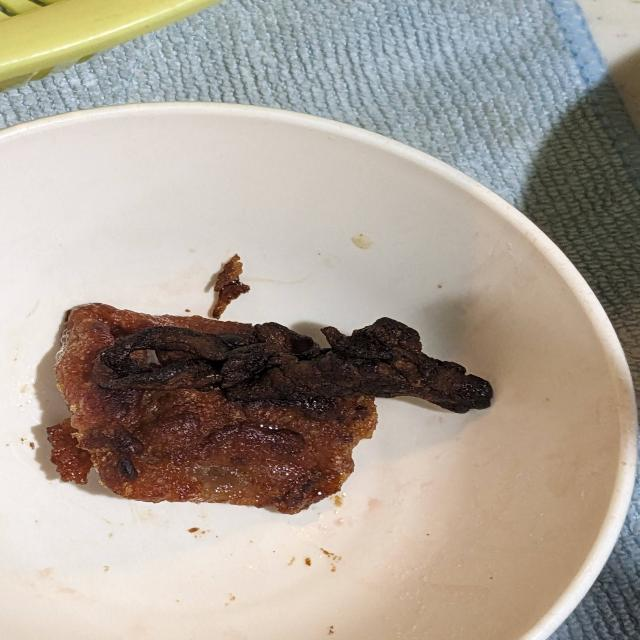overcooked pork: (32, 298, 509, 525)
